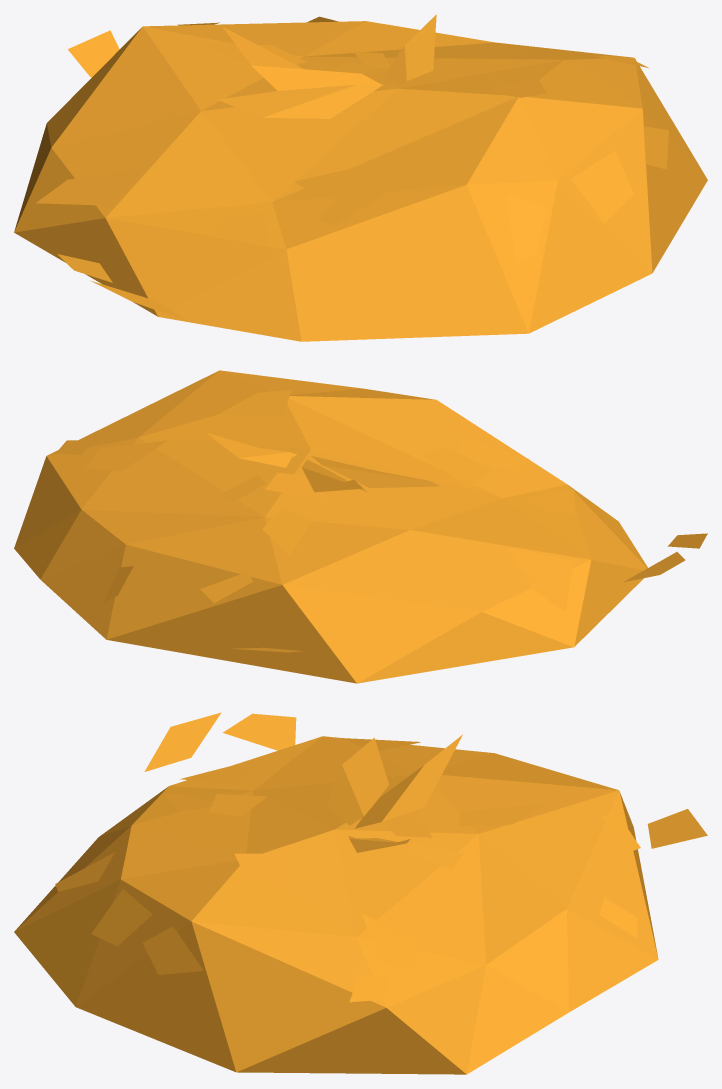
Rendered from SM_Porridge.fbx.
The picture shows the model from 3 angles, top to bottom: view 1: azimuth 30°, elevation 25°; view 2: azimuth 150°, elevation 25°; view 3: azimuth 270°, elevation 25°; orthographic projection. The views are drawn at different scales.
Visible parts, largest first — view 1: porridge; view 2: porridge; view 3: porridge.
Boxes of the visible parts, x1=… form: porridge: x1=14, y1=14, x2=707, y2=341; porridge: x1=14, y1=370, x2=707, y2=683; porridge: x1=14, y1=712, x2=707, y2=1074.
Bounding box in the file's own units: 0.1677 × 0.0418 × 0.1618.
